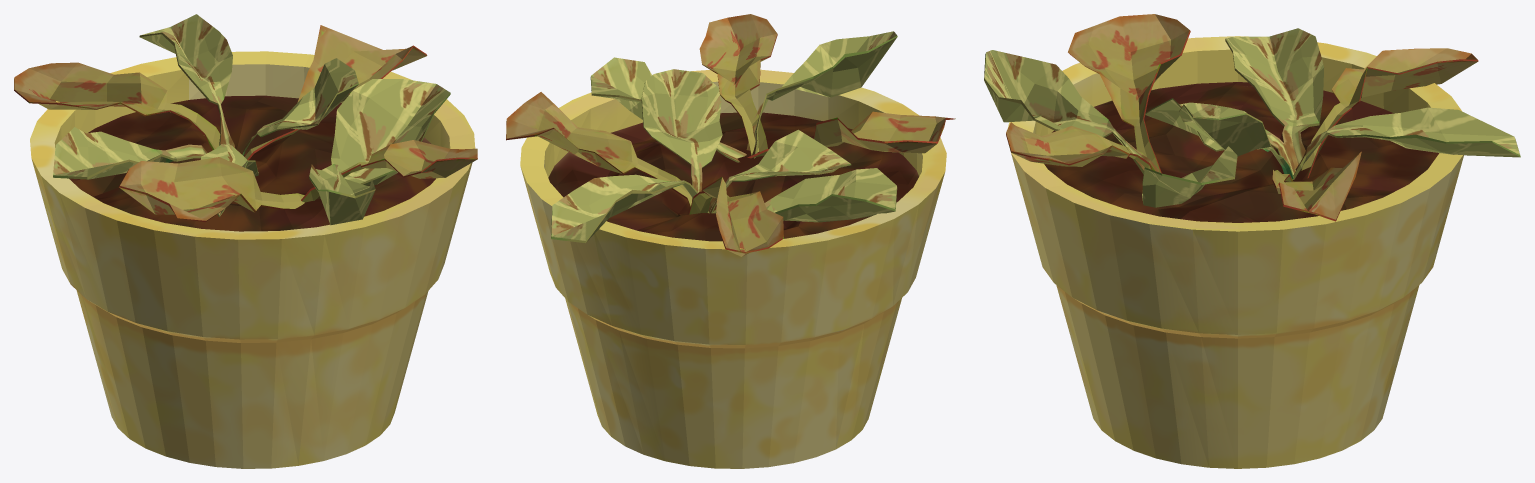
File: Bergenia_Dead_End.glb
3 views of the same model, side by side, from view 1: azimuth 30°, elevation 25°; view 2: azimuth 150°, elevation 25°; view 3: azimuth 270°, elevation 25° (orthographic). The views are drawn at different scales.
Parts seen in each view (by area): view 1: Pot.002, leaf_3.010, leaf_3.002, leaf_3.001, leaf_3.003, leaf_3.004, leaf_3.006, leaf_3.005; view 2: Pot.002, leaf_3.010, leaf_3.006, leaf_3.004, leaf_3.003, leaf_3.001, leaf_3.002, leaf_3.005; view 3: Pot.002, leaf_3.010, leaf_3.003, leaf_3.001, leaf_3.002, leaf_3.004, leaf_3.006, leaf_3.005.
Boxes of the visible parts, bbox=[...] form: Pot.002: bbox=[30, 51, 475, 468]; leaf_3.010: bbox=[119, 79, 477, 225]; leaf_3.002: bbox=[14, 62, 220, 150]; leaf_3.001: bbox=[139, 14, 234, 147]; leaf_3.003: bbox=[53, 127, 207, 179]; leaf_3.004: bbox=[245, 25, 427, 160]; leaf_3.006: bbox=[242, 58, 358, 155]; leaf_3.005: bbox=[200, 144, 258, 216]; Pot.002: bbox=[520, 69, 946, 468]; leaf_3.010: bbox=[590, 14, 955, 162]; leaf_3.006: bbox=[641, 69, 722, 201]; leaf_3.004: bbox=[506, 92, 691, 206]; leaf_3.003: bbox=[712, 168, 897, 222]; leaf_3.001: bbox=[551, 174, 709, 243]; leaf_3.002: bbox=[689, 177, 783, 256]; leaf_3.005: bbox=[708, 129, 851, 213]; Pot.002: bbox=[1008, 36, 1463, 468]; leaf_3.010: bbox=[984, 14, 1237, 207]; leaf_3.003: bbox=[1225, 28, 1324, 168]; leaf_3.001: bbox=[1292, 107, 1520, 179]; leaf_3.002: bbox=[1301, 48, 1478, 178]; leaf_3.004: bbox=[1272, 151, 1361, 221]; leaf_3.006: bbox=[1179, 104, 1293, 178]; leaf_3.005: bbox=[1145, 98, 1295, 174].
Size of the model in its own units: 2.08 by 1.65 by 2.38.
3 materials, 3 textured.
